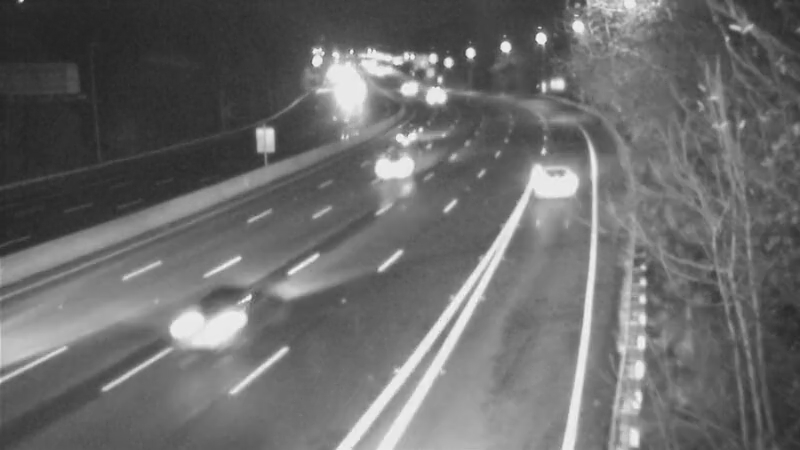vehicle: (153, 272, 263, 382), (359, 125, 439, 205), (511, 138, 591, 218), (379, 67, 429, 117), (407, 72, 457, 122), (382, 108, 432, 158)
